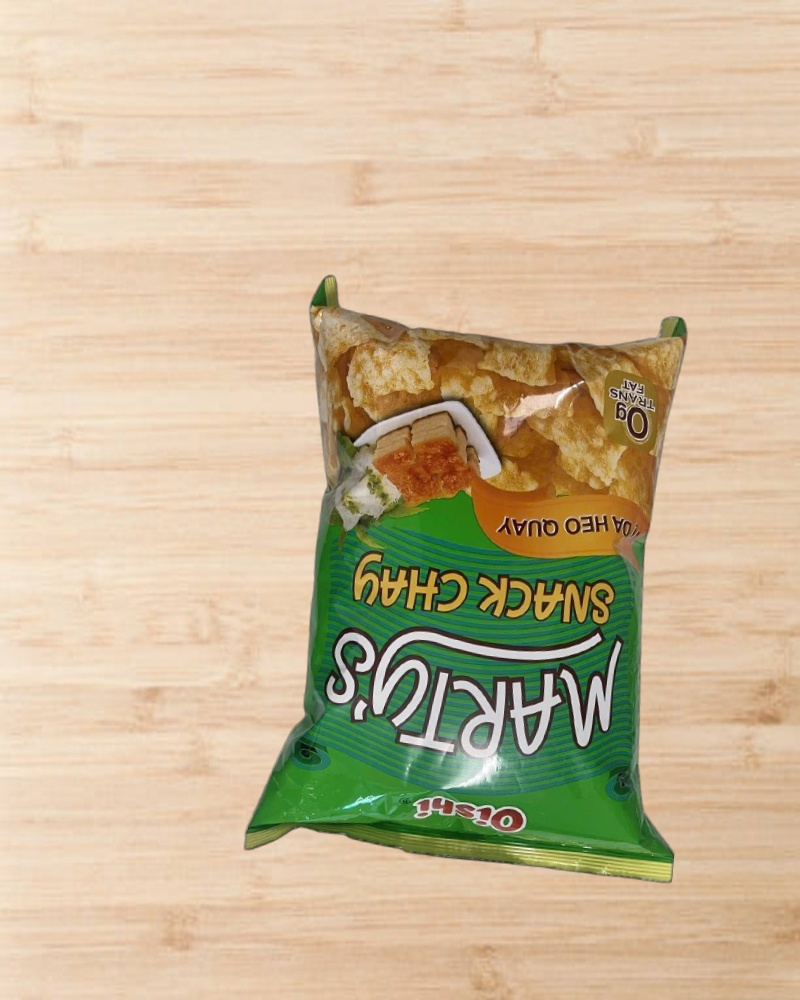Snack chay: (265, 276, 721, 888)
